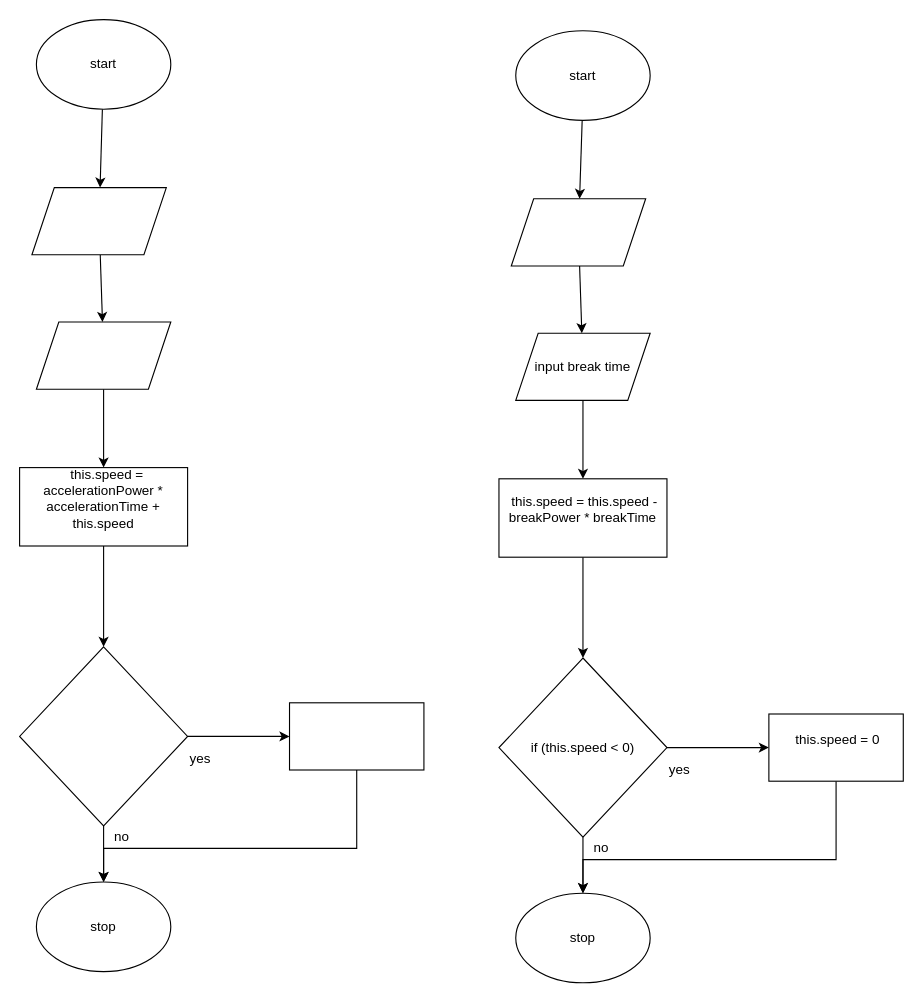
Some shapes in this 923 by 1002 pixel diagram are drawn without their labels. The centre of each missing label's shape, as x and y in pixels:
"if (this.speed > this.maxSpeed)" belongs at [103,736].
"input acc pow" belongs at [98,220].
"input acc time" belongs at [103,355].
"input break pow" belongs at [578,232].
"this.speed = this.maxSpeed" belongs at [356,736].
